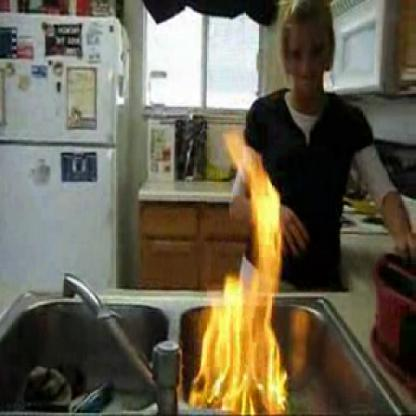Fire: (192, 132, 286, 410)
